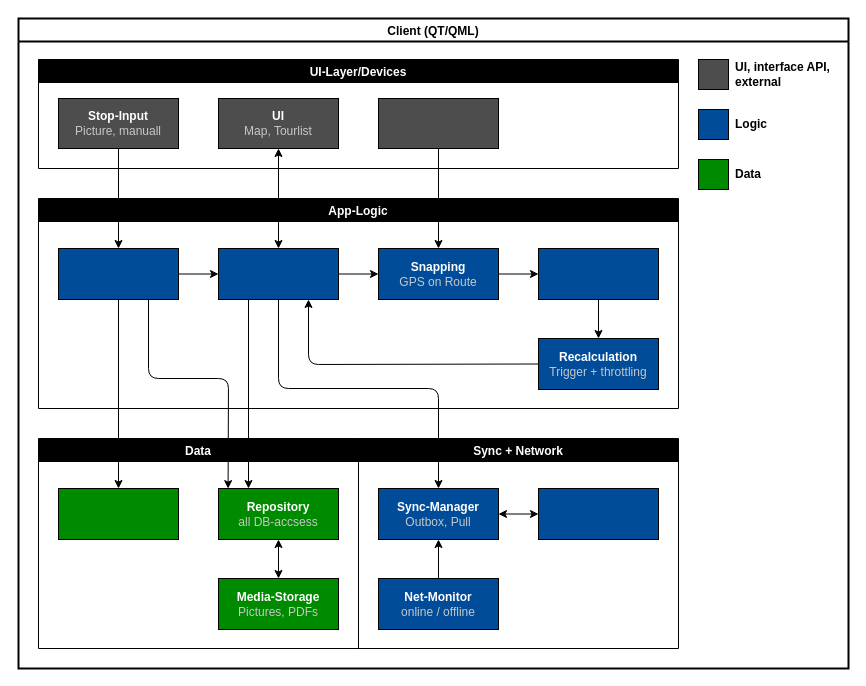
The diagram is 866 pixels wide and 686 high, and some of its shapes have lost their labels. The shapes that lost their labels are listed below. From the top down, each one's centre as x and y in pixels, then its label:
At (438,123): "GPS Position".
At (118,274): "Stop-Controller Pictures, PDF, manuall".
At (278,274): "Tour-Controller next stop".
At (598,274): "Deviation Threshold, Timer".
At (118,514): "SQLite local data base".
At (598,514): "API-Client Pictures, PDF, manuall".
